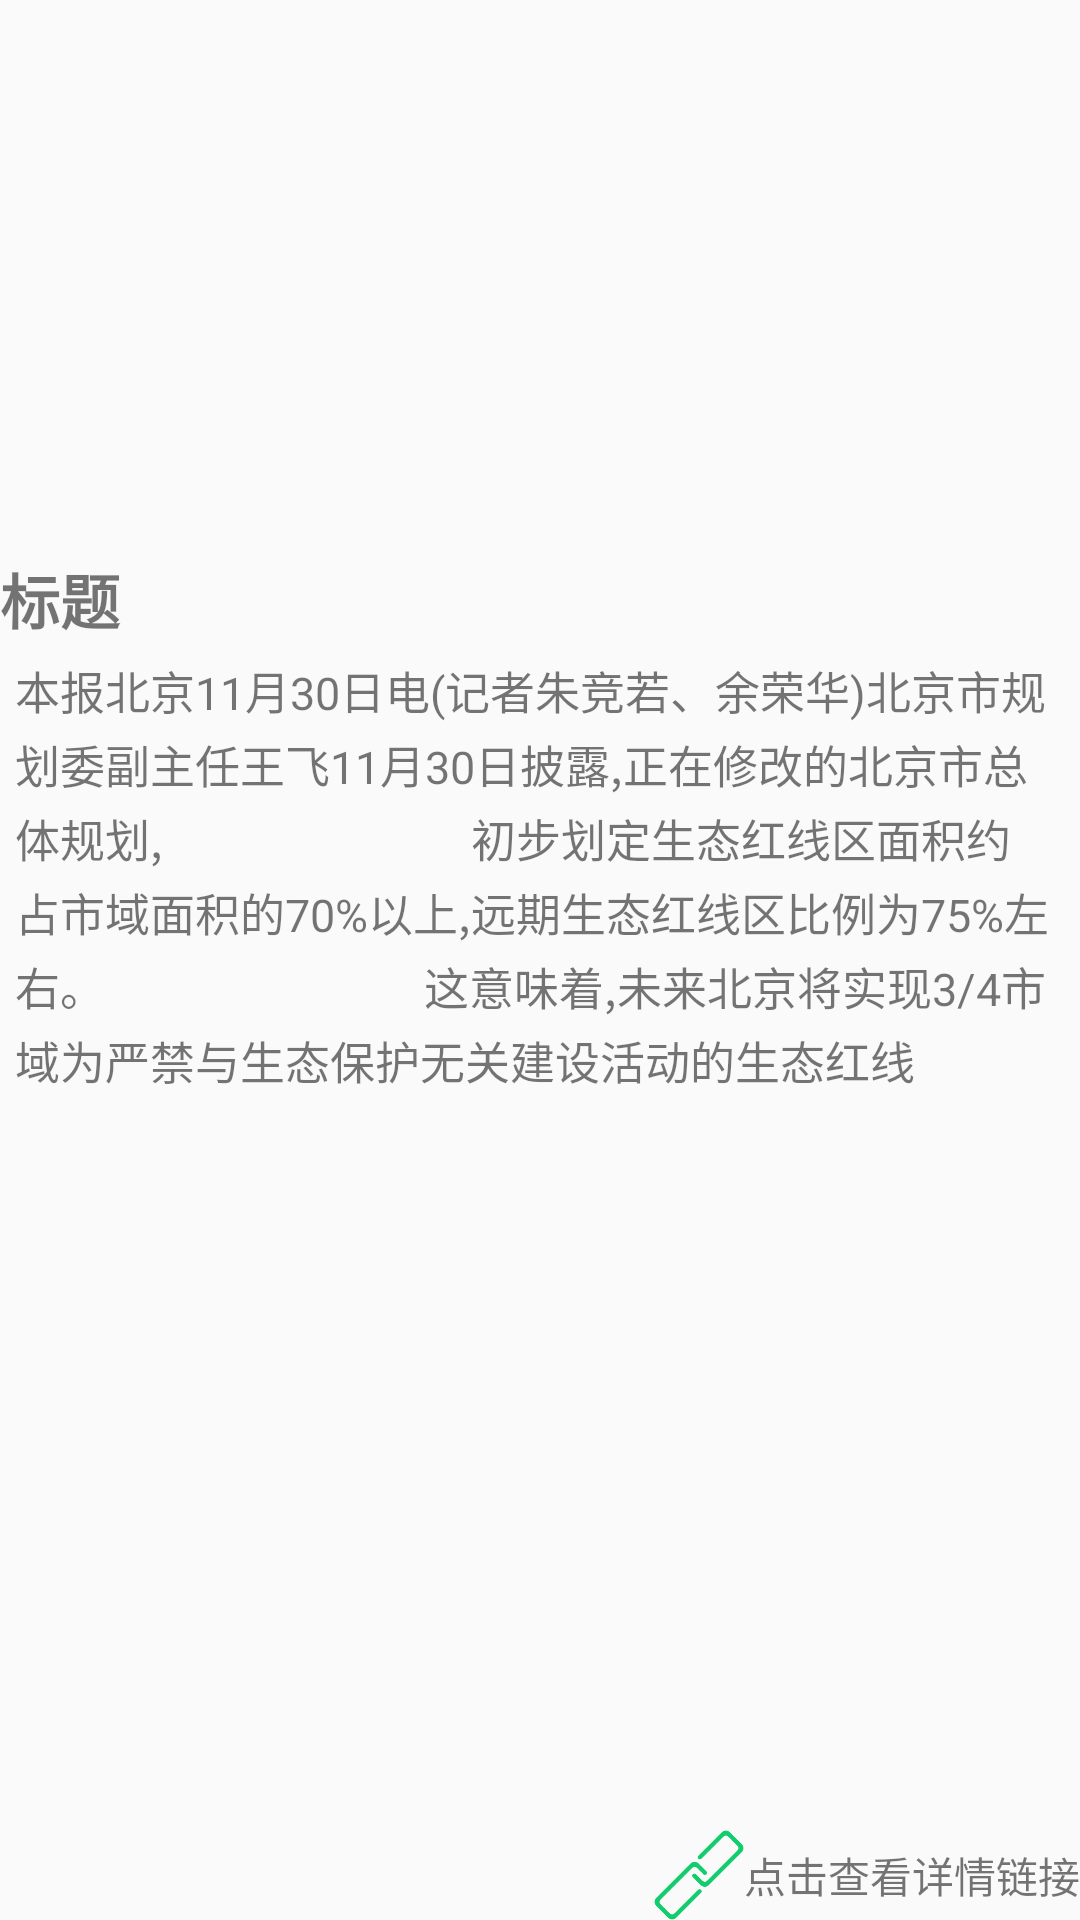

Point at icon controls on the screen. Image size 1080×1920, points as point (x, y).
newsdetial url: point (699, 1875)
